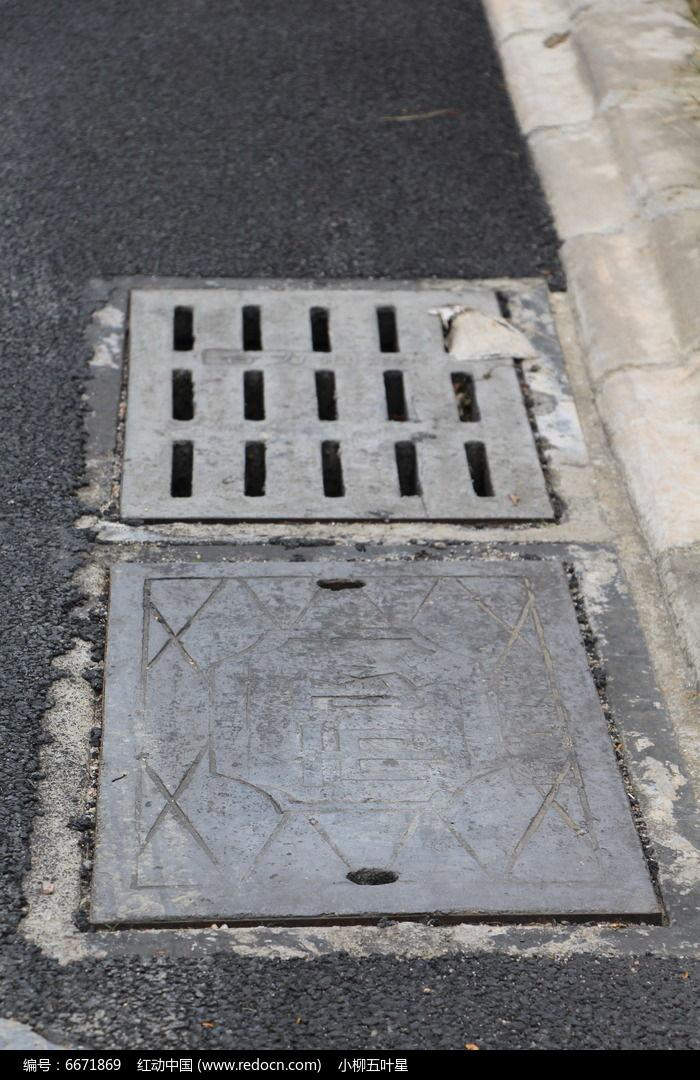wellcover: (61, 539, 700, 946), (61, 227, 572, 536)
